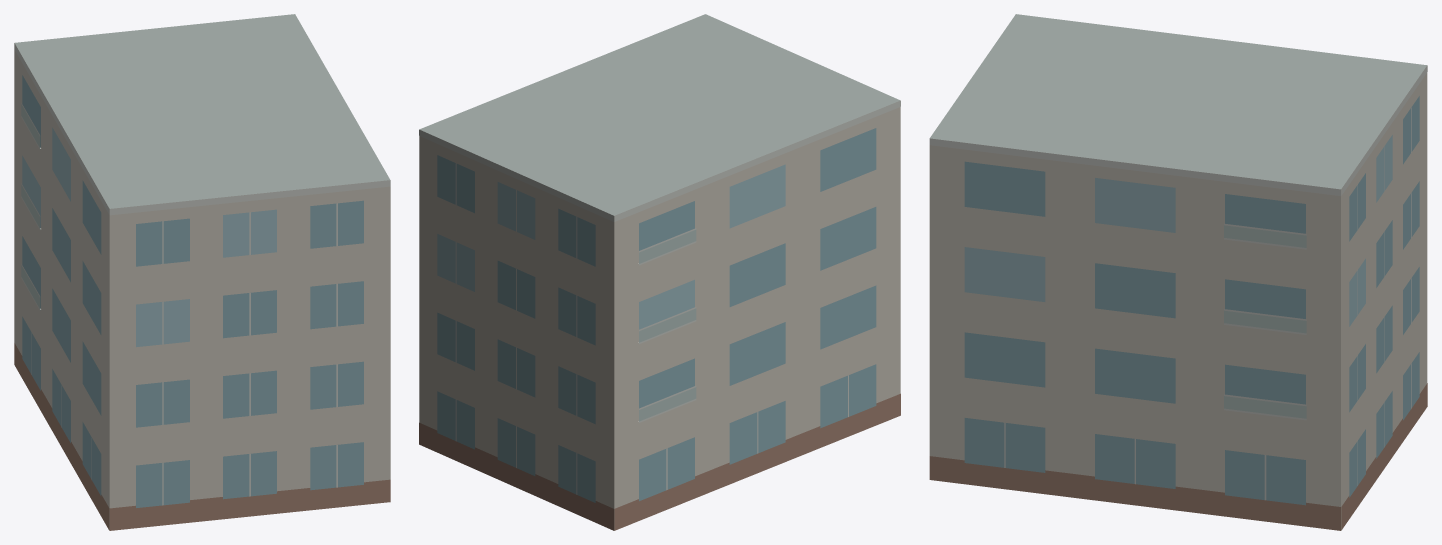
Rendered from residential-c34e54b4-cdd8-48eb-a406-849877e0c6da.glb.
The picture shows the model from 3 angles, left to right: view 1: azimuth 30°, elevation 25°; view 2: azimuth 150°, elevation 25°; view 3: azimuth 270°, elevation 25°; orthographic projection. The views are drawn at different scales.
Visible parts, largest first — view 1: residential-c34e54b4-cdd8-48eb-a406-849877e0c6da.tmp; view 2: residential-c34e54b4-cdd8-48eb-a406-849877e0c6da.tmp; view 3: residential-c34e54b4-cdd8-48eb-a406-849877e0c6da.tmp.
Boxes of the visible parts, box(x1,y1,x2,y2) form: residential-c34e54b4-cdd8-48eb-a406-849877e0c6da.tmp: box(14, 14, 390, 530); residential-c34e54b4-cdd8-48eb-a406-849877e0c6da.tmp: box(419, 14, 900, 530); residential-c34e54b4-cdd8-48eb-a406-849877e0c6da.tmp: box(929, 14, 1427, 530).
Size of the model in its own units: 13.45 by 12.2 by 16.13.
